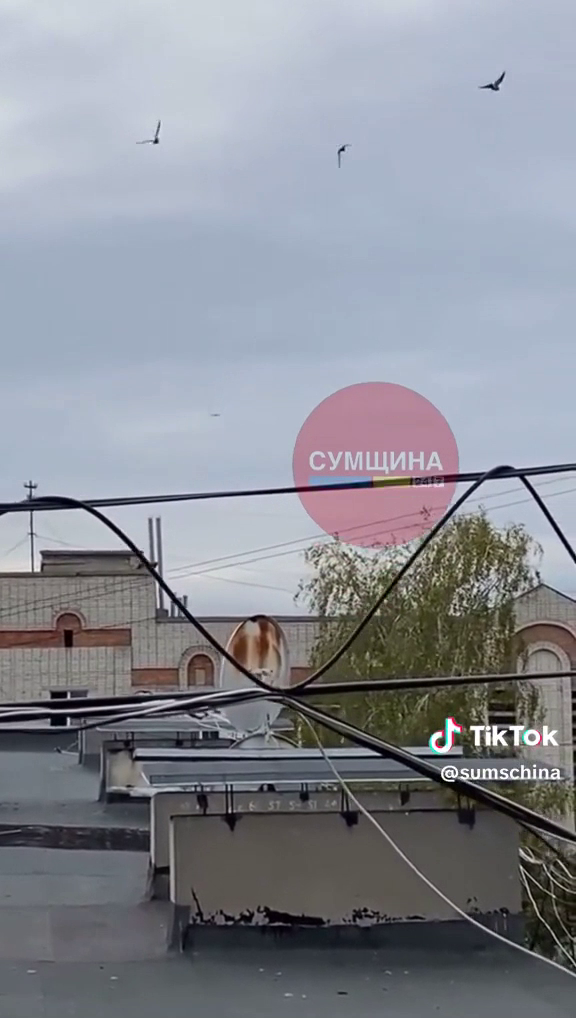not_drone: (475, 66, 510, 96), (134, 118, 164, 150), (334, 141, 355, 171)
